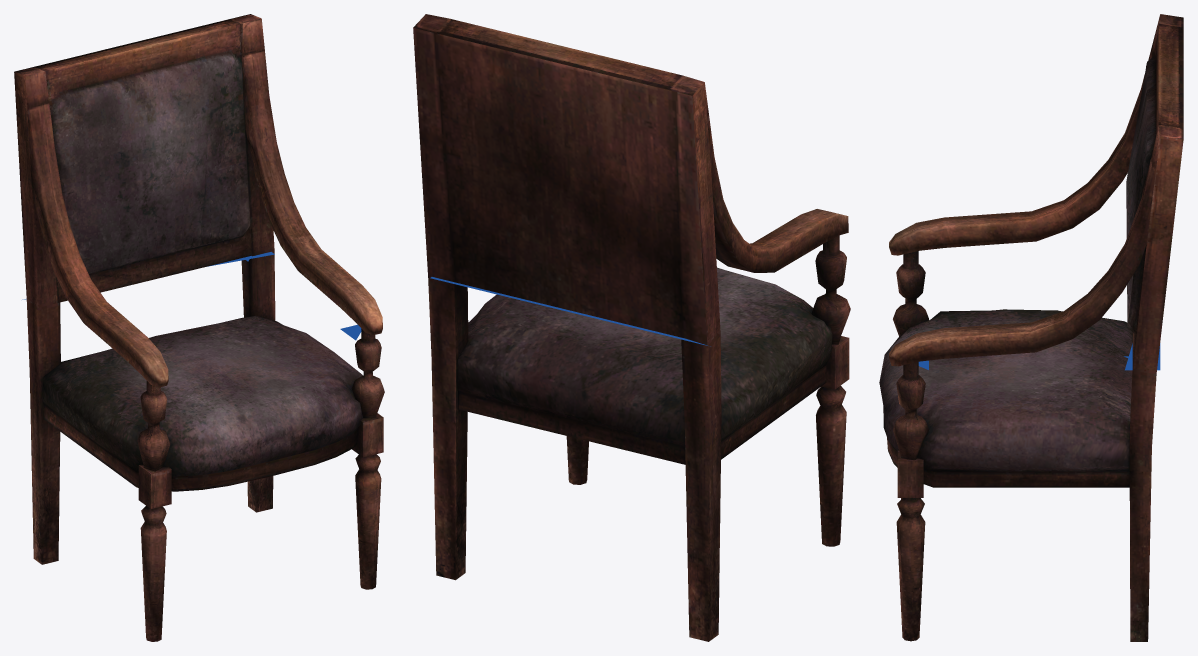
File: Hotel Chair.obj
3 views of the same model, side by side, from view 1: azimuth 30°, elevation 25°; view 2: azimuth 150°, elevation 25°; view 3: azimuth 270°, elevation 25° (orthographic). The views are drawn at different scales.
Visible parts, largest first — view 1: Hotel_Chair; view 2: Hotel_Chair; view 3: Hotel_Chair.
Boxes of the visible parts, x1,y1,x2,y2 form: Hotel_Chair: (14,14,384,641); Hotel_Chair: (413,14,850,641); Hotel_Chair: (879,14,1183,641).
Size of the model in its own units: 38.6 by 71.23 by 38.67.
2 materials, 1 textured.
